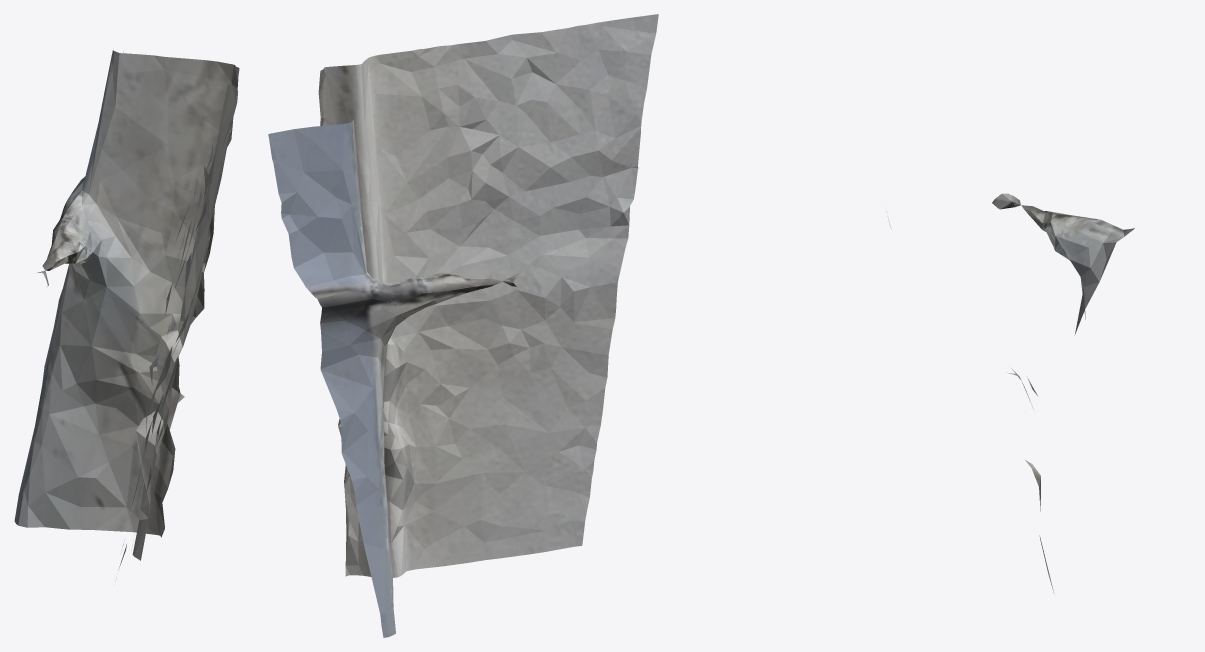
3 renders of one model, left to right at view 1: azimuth 30°, elevation 25°; view 2: azimuth 150°, elevation 25°; view 3: azimuth 270°, elevation 25°, orthographic. The views are drawn at different scales.
Bounding box in the file's own units: 0.3633 × 0.8374 × 0.7039.
Materials: 2 (2 with a texture image).
